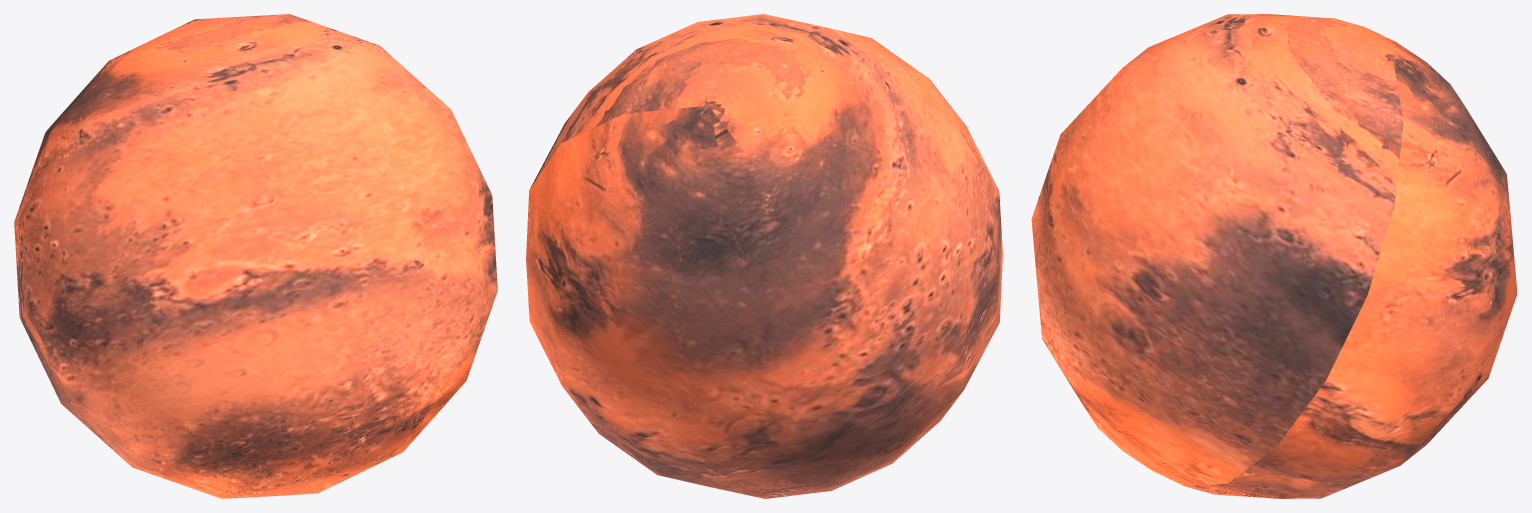
The model's file is track6Structure3.glb.
3 views of the same model, side by side, from view 1: azimuth 30°, elevation 25°; view 2: azimuth 150°, elevation 25°; view 3: azimuth 270°, elevation 25° (orthographic).
Parts seen in each view (by area): view 1: planet2; view 2: planet2; view 3: planet2.
Boxes of the visible parts, bbox=[...] form: planet2: bbox=[14, 14, 497, 498]; planet2: bbox=[526, 14, 1002, 498]; planet2: bbox=[1031, 14, 1517, 498].
Size of the model in its own units: 2.05 by 2.06 by 2.04.
Materials: 1 (1 with a texture image).
